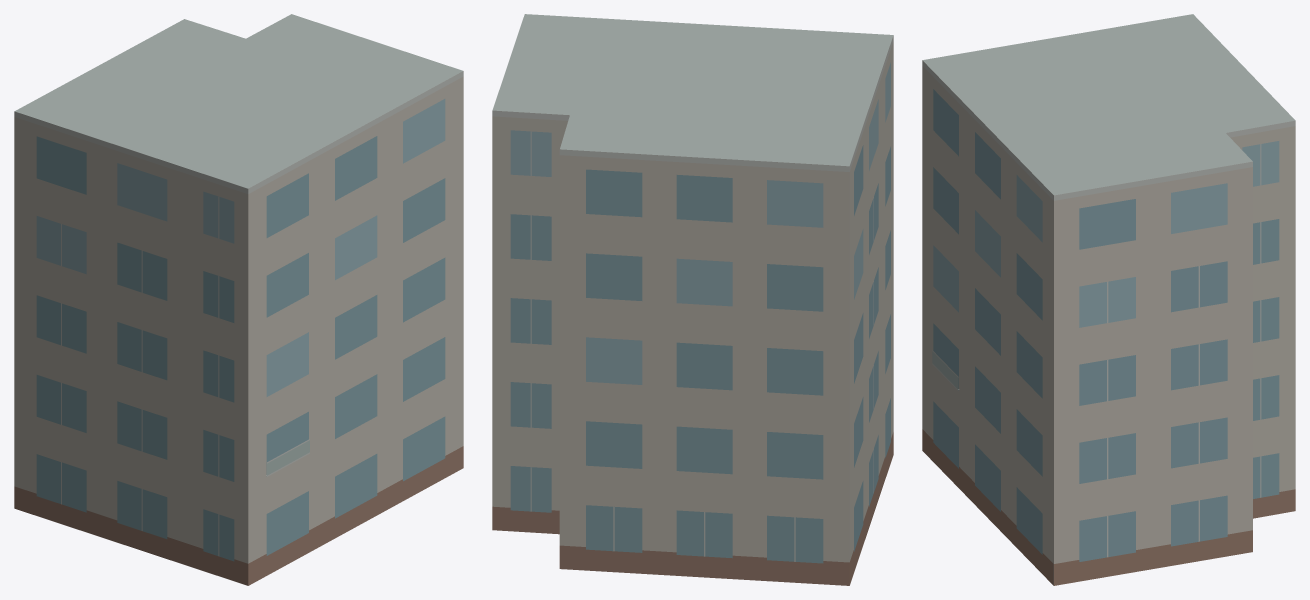
File: survey-upis-32851337.glb
3 views of the same model, side by side, from view 1: azimuth 30°, elevation 25°; view 2: azimuth 150°, elevation 25°; view 3: azimuth 270°, elevation 25° (orthographic). The views are drawn at different scales.
Parts seen in each view (by area): view 1: survey-upis-32851337.tmp; view 2: survey-upis-32851337.tmp; view 3: survey-upis-32851337.tmp.
Part boxes in pixels (x1,y1,x2,y2): survey-upis-32851337.tmp: (14,14,463,585); survey-upis-32851337.tmp: (492,14,893,585); survey-upis-32851337.tmp: (922,14,1295,585).
Size of the model in its own units: 17.55 by 17.6 by 15.27.
